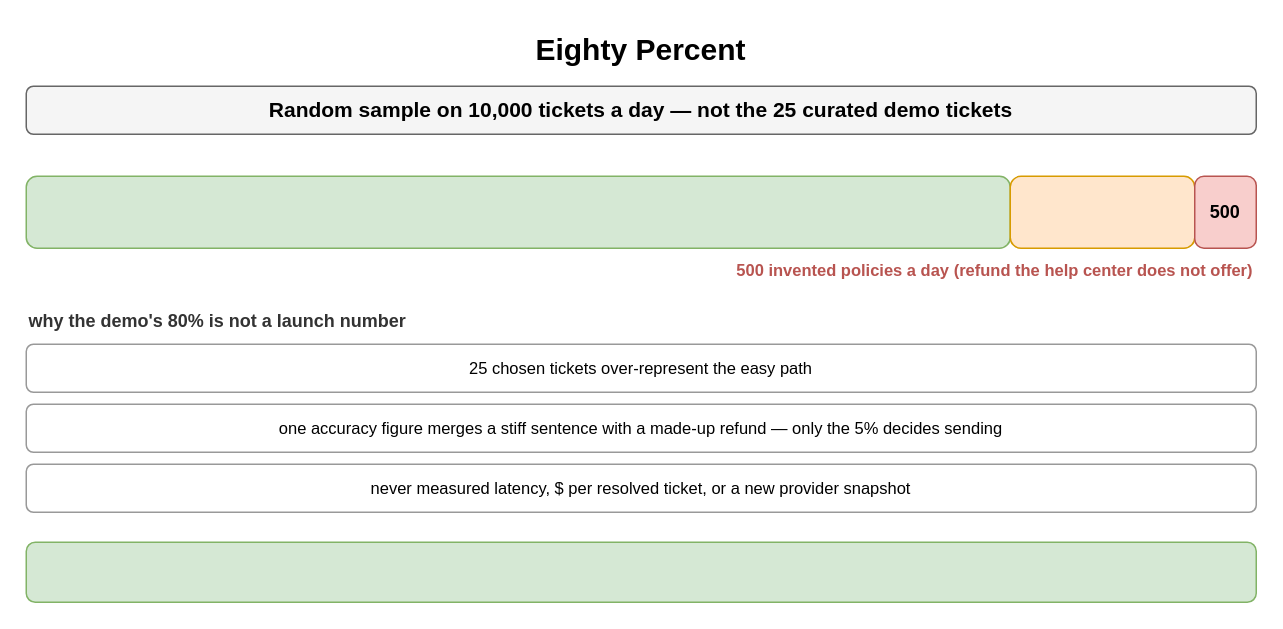
Image size: 1283x629. Some labels were removed from this diagram. Each missing label, with the centre of its shape:
1,500 full rewrites: point 1102,211
8,000 sendable with a light edit: point 517,211
Answer: 25 500 1500: point 640,571
